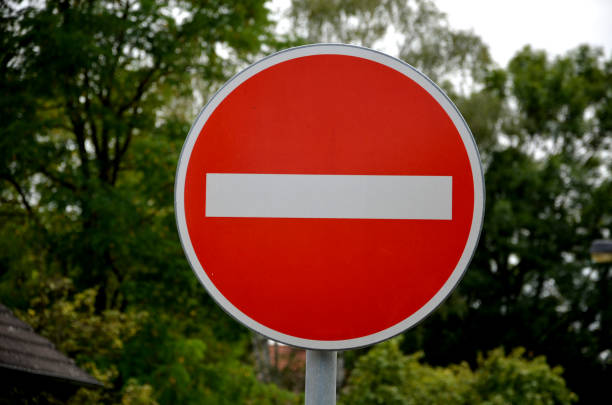Girilmez: (172, 41, 485, 352)
